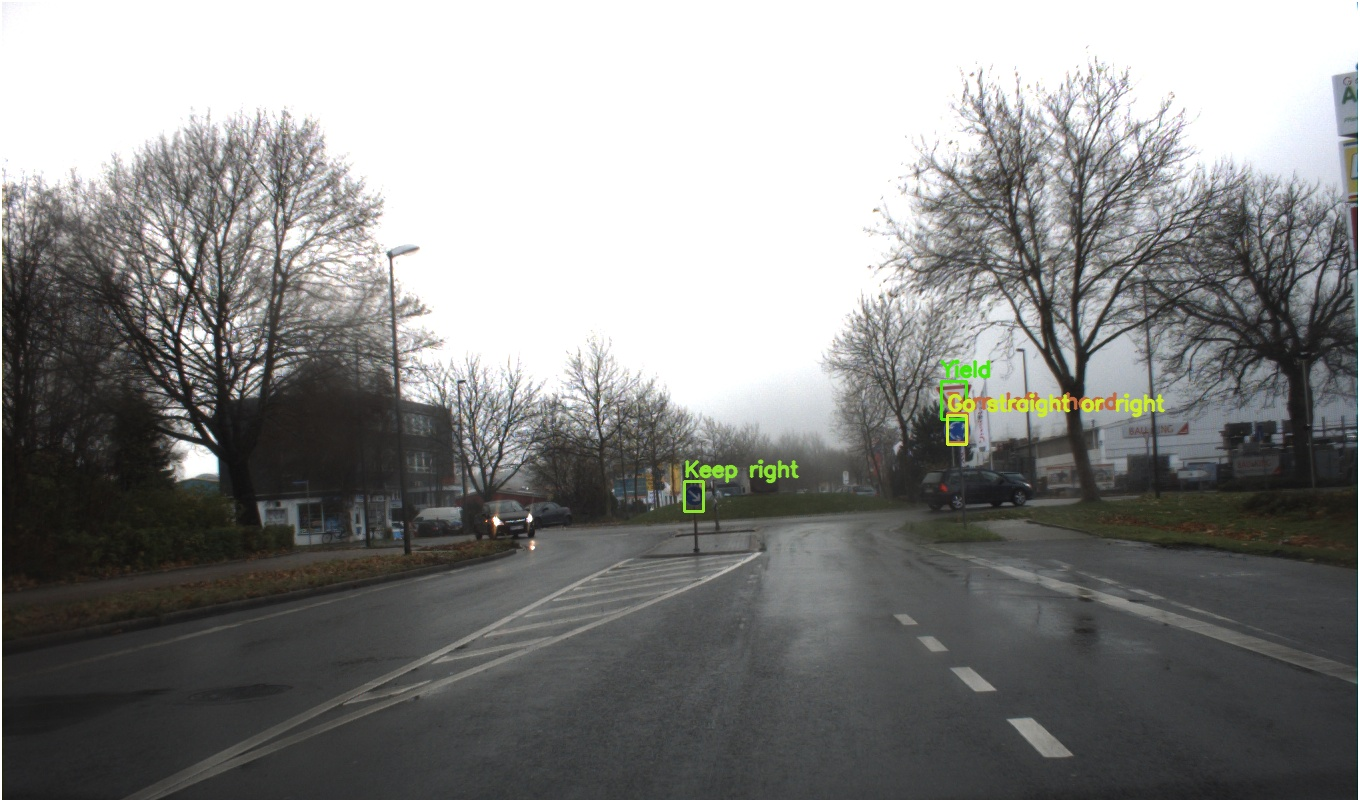No passing: (1186, 134, 1301, 244)
